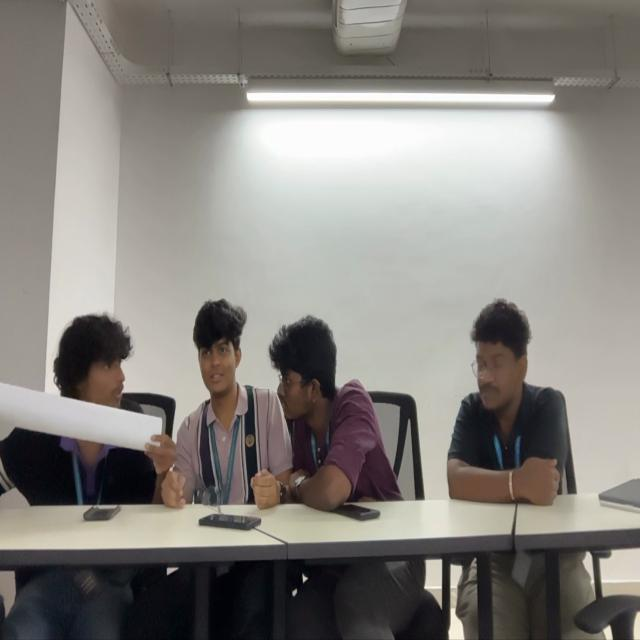Isolated: (448, 298, 578, 494)
socializing: (0, 296, 404, 492)
